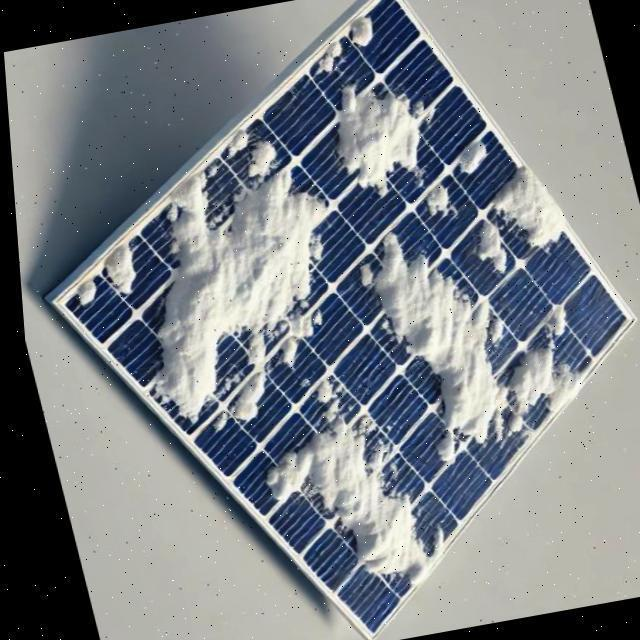Anomaly Solar Panel: (49, 0, 640, 639)
Snow: (339, 188, 600, 468), (147, 128, 338, 445), (234, 366, 482, 602), (330, 80, 437, 204), (475, 162, 572, 266), (94, 241, 152, 299), (464, 218, 508, 278), (450, 137, 490, 181), (419, 182, 458, 218), (217, 128, 255, 163), (313, 41, 343, 81), (69, 273, 99, 312), (350, 15, 373, 48)
